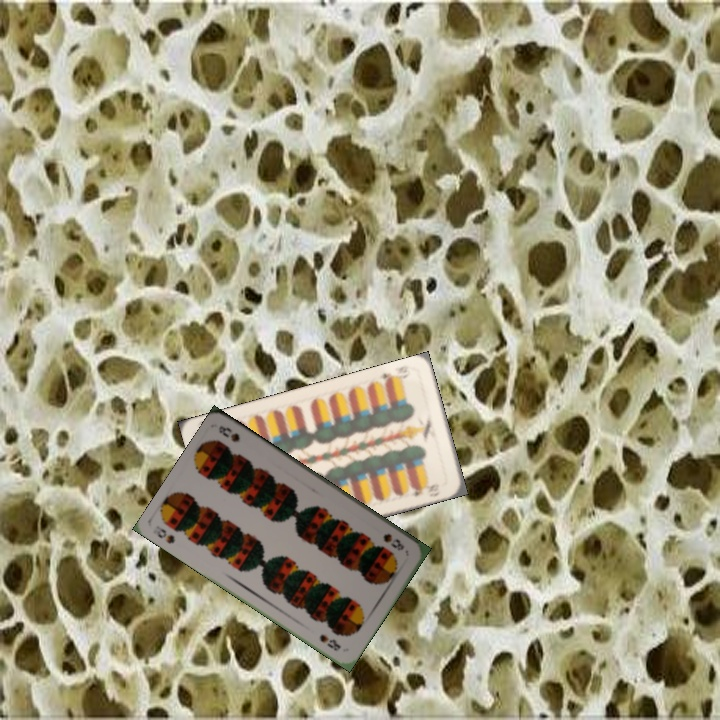E10: (376, 362, 413, 387)
S8: (149, 521, 177, 546), (379, 529, 407, 553)
